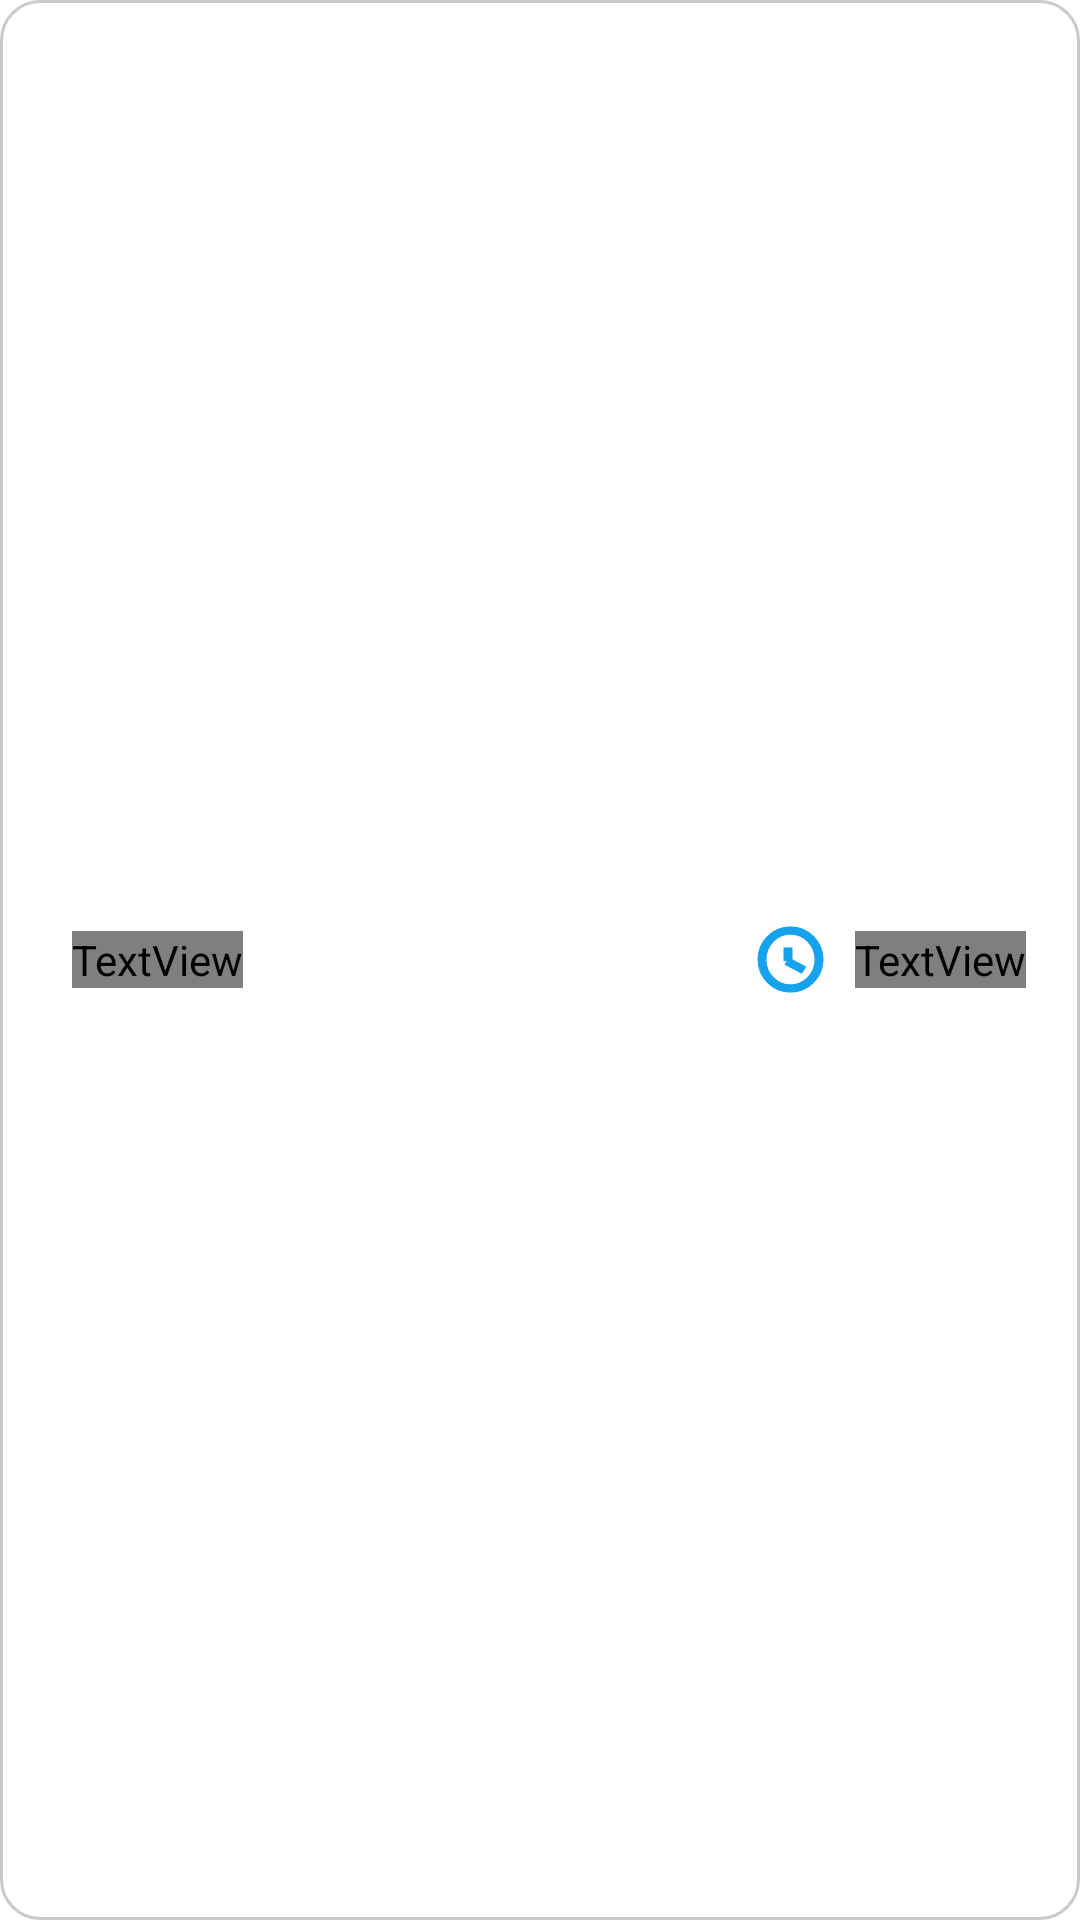

Screen size 1080 × 1920. Icon name, then its center in pixels as [x,y]:
oclock time: [790,959]
